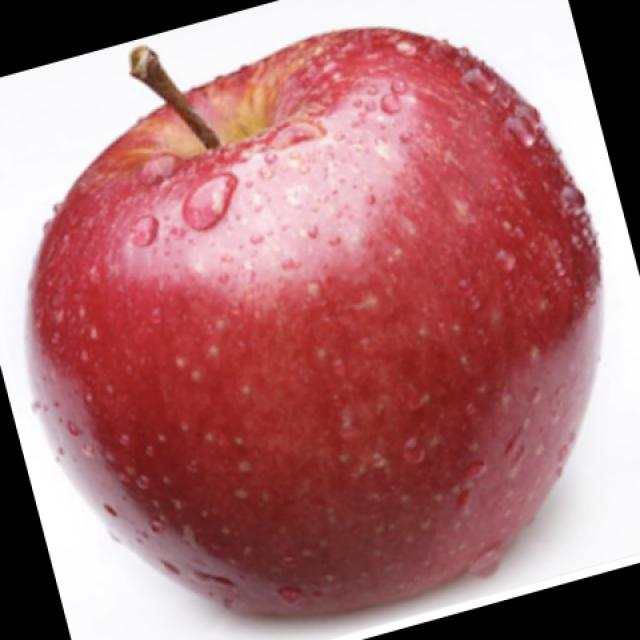organik: (36, 16, 614, 628)
